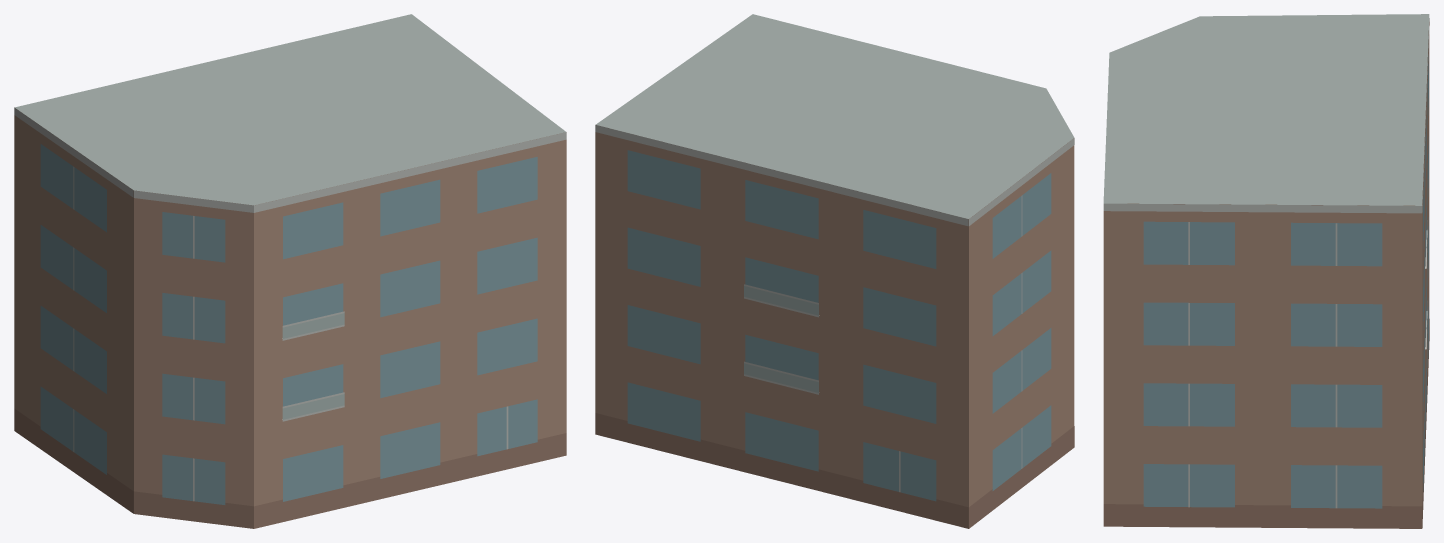
File: survey-upis-32927386.glb
3 renders of one model, left to right at view 1: azimuth 30°, elevation 25°; view 2: azimuth 150°, elevation 25°; view 3: azimuth 270°, elevation 25°, orthographic. The views are drawn at different scales.
Visible parts, largest first — view 1: survey-upis-32927386.tmp; view 2: survey-upis-32927386.tmp; view 3: survey-upis-32927386.tmp.
Boxes of the visible parts, left/top/right/bottom form: survey-upis-32927386.tmp: left=14, top=14, right=566, bottom=528; survey-upis-32927386.tmp: left=595, top=14, right=1074, bottom=528; survey-upis-32927386.tmp: left=1103, top=14, right=1429, bottom=528.
Size of the model in its own units: 13.25 by 10.4 by 9.52.
